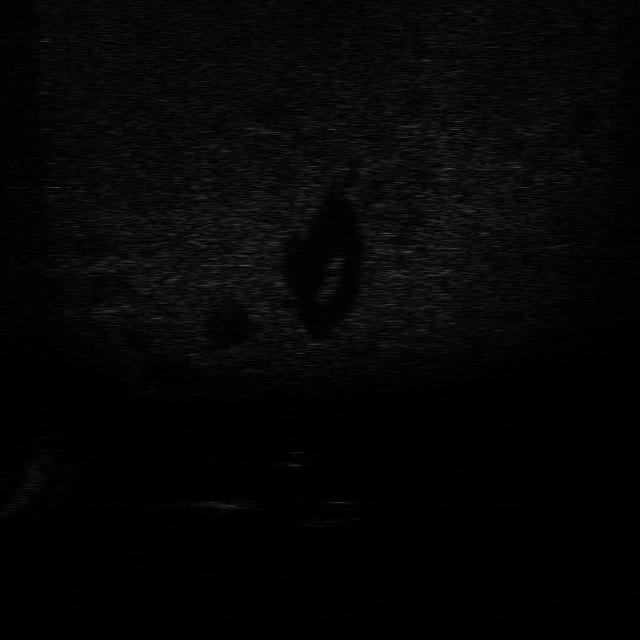ball: (273, 444, 315, 474)
square cage: (184, 486, 262, 522)
tyre: (292, 493, 363, 529)
